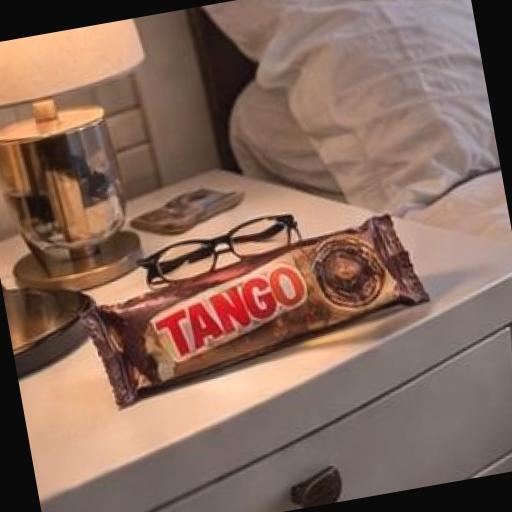tango: (52, 186, 450, 448)
